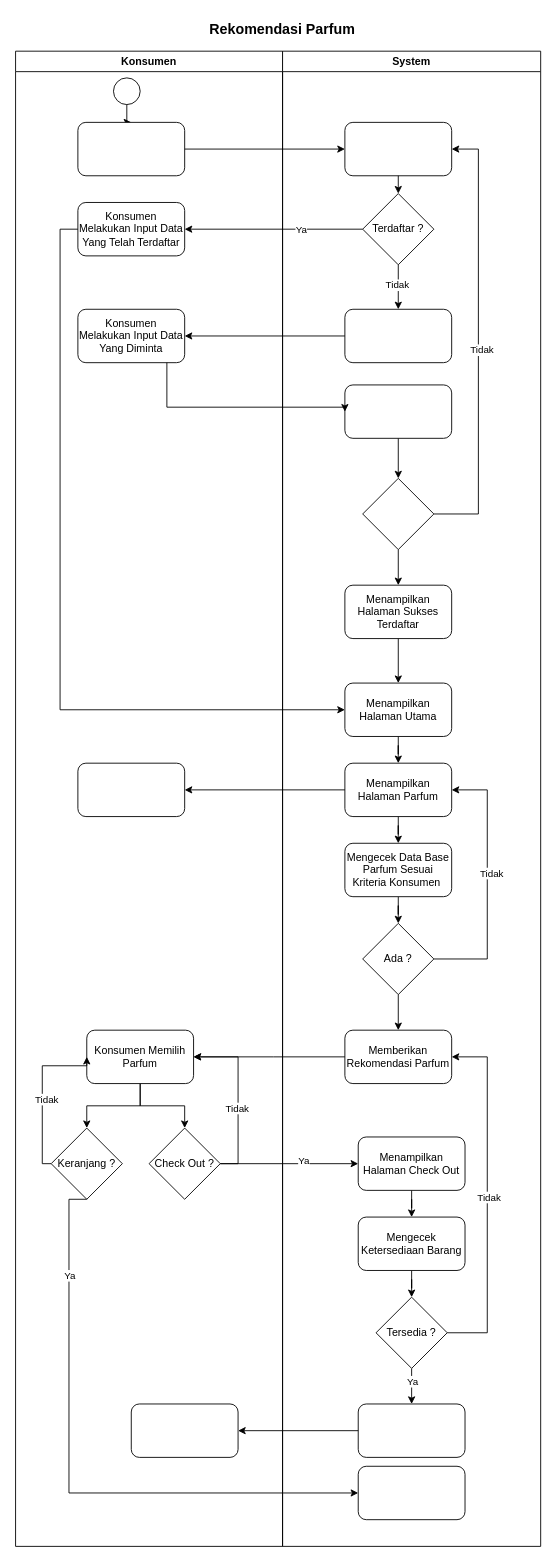
The diagram is 556 pixels wide and 1562 high, and some of its shapes have lost their labels. Each missing label, with the centre of its shape:
"Konsumen Menginput Kriteria Parfum Yang Diingiinkan" belongs at point 131,789.
"Membuka Website Parfum" belongs at point 131,148.
"Menampilkan Halaman Pendaftaran" belongs at point 398,335.
"Menampilkan Halaman Pendaftaran dan Masuk" belongs at point 398,148.
"Mengecek Kesesuaian Data" belongs at point 398,411.
"Menyimpan Isi Keranjang Pelanggan" belongs at point 411,1492.
"Pelanggan Dapat Melakukan Check Out" belongs at point 411,1430.
"Pelanggan Melakukan Check Out" belongs at point 184,1430.
"Sesuai ?" belongs at point 398,513.
